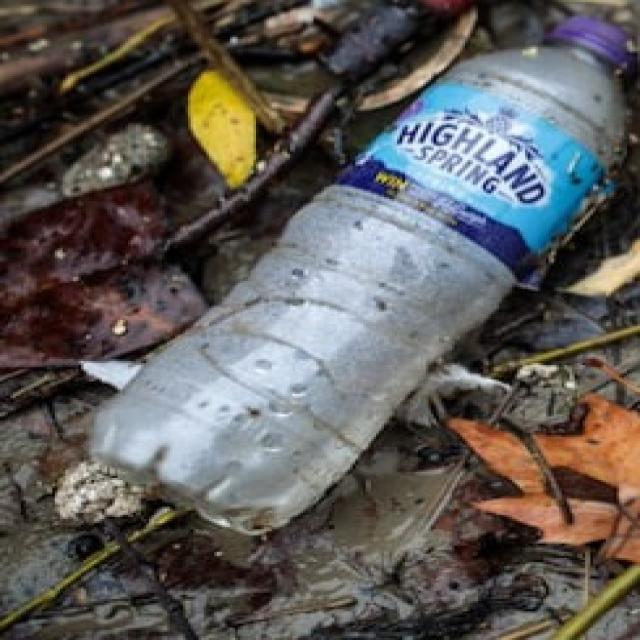plastic bottle: (46, 0, 640, 549)
